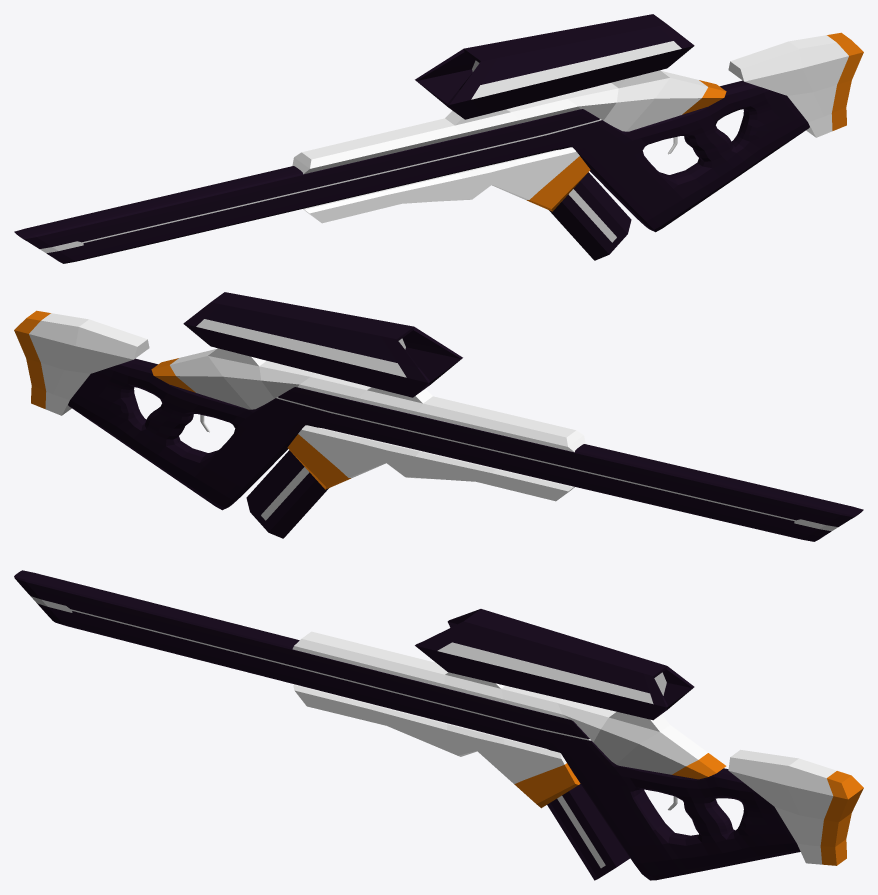
File: fire sniper.fbx
3 renders of one model, top to bottom at view 1: azimuth 30°, elevation 25°; view 2: azimuth 150°, elevation 25°; view 3: azimuth 330°, elevation 25°, orthographic.
Visible parts, largest first — view 1: gun, Cylinder.002, armor top, Plane, armor back, Cylinder, Cylinder.003, highlight back, Plane.001, gun.001, highlight top, Cylinder.001; view 2: gun, Cylinder.002, armor top, Plane, armor back, Cylinder, Cylinder.003, highlight back, Plane.001, gun.001, highlight top, Cylinder.001; view 3: gun, Cylinder.002, armor top, Plane, armor back, Cylinder, Cylinder.003, highlight back, Plane.001, gun.001, highlight top.
Part boxes in pixels (x1,y1,x2,y2): gun: (14, 80, 809, 263); Cylinder.002: (415, 14, 694, 119); armor top: (292, 70, 707, 174); Plane: (303, 147, 579, 223); armor back: (728, 35, 848, 137); Cylinder: (549, 172, 631, 260); Cylinder.003: (471, 41, 681, 99); highlight back: (827, 32, 863, 130); Plane.001: (527, 156, 590, 211); gun.001: (40, 119, 601, 253); highlight top: (682, 80, 726, 114); Cylinder.001: (568, 189, 616, 242); gun: (68, 358, 863, 541); Cylinder.002: (183, 292, 462, 397); armor top: (170, 348, 585, 452); Plane: (298, 425, 574, 501); armor back: (29, 313, 149, 415); Cylinder: (246, 450, 328, 538); Cylinder.003: (196, 319, 406, 377); highlight back: (14, 310, 50, 408); Plane.001: (287, 434, 350, 489); gun.001: (276, 397, 837, 531); highlight top: (151, 358, 195, 392); Cylinder.001: (261, 467, 309, 520); gun: (14, 570, 800, 880); Cylinder.002: (415, 609, 694, 720); armor top: (292, 631, 707, 774); Plane: (293, 684, 566, 784); armor back: (728, 749, 836, 864); Cylinder: (547, 784, 629, 880); Cylinder.003: (437, 642, 666, 704); highlight back: (820, 771, 863, 865); Plane.001: (514, 763, 580, 808); gun.001: (30, 596, 591, 740); highlight top: (672, 753, 726, 779).
Bounding box in the file's own units: 882 × 237 × 62.99.
